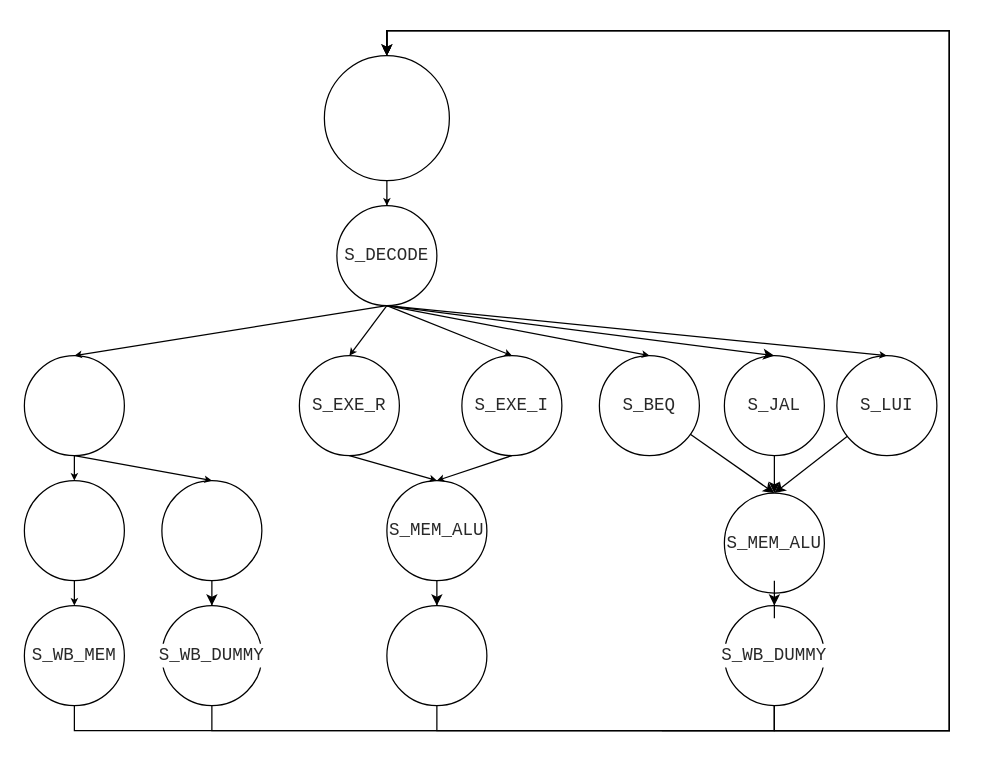
This 981x763 diagram has some shape labels left out. Each missing label, with the centre of its shape:
S_EXE_ADDR: the point at 73,405
S_FETCH: the point at 386,117
S_MEM_RD: the point at 73,530
S_MEM_WR: the point at 211,530
S_WB_ALU: the point at 436,655
